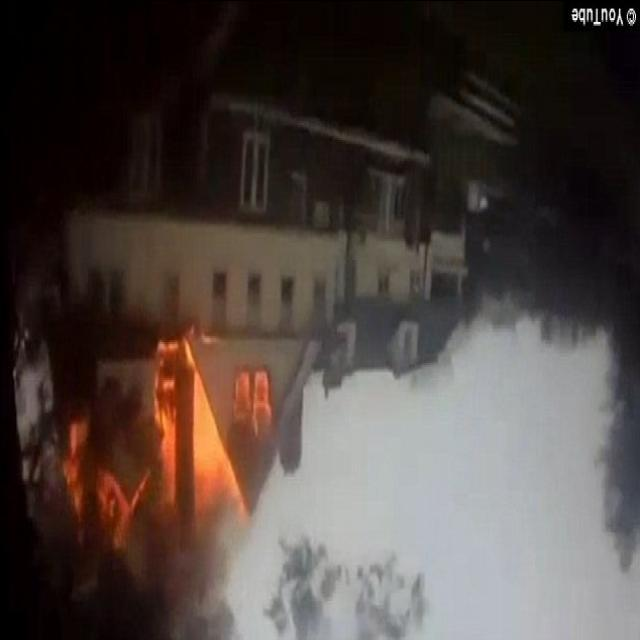Fire: (65, 337, 272, 558)
